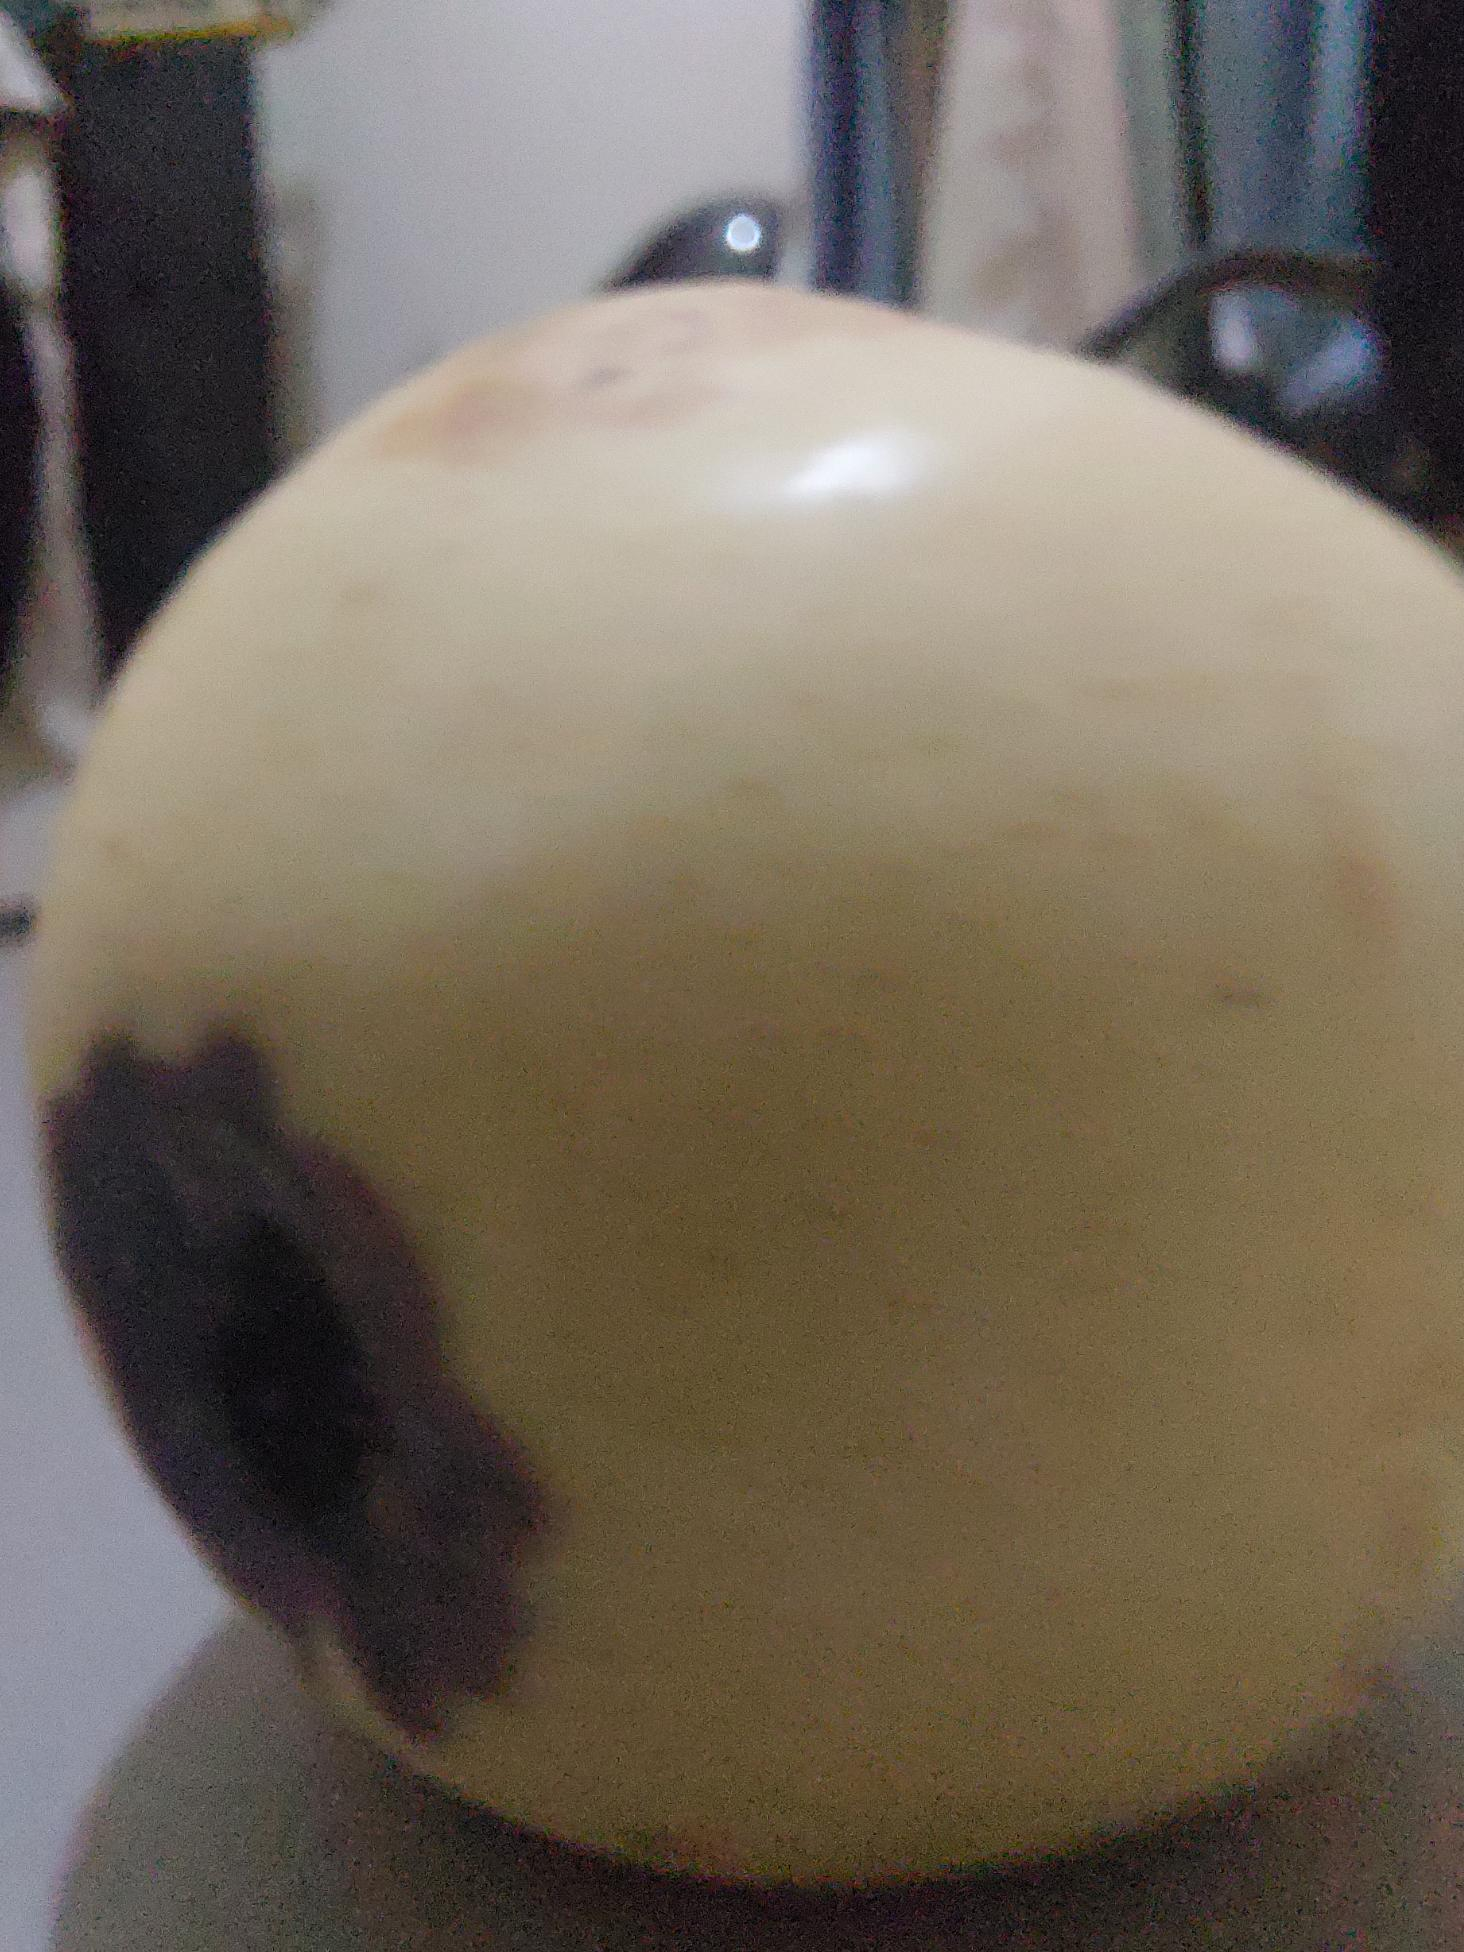Bad Pear: (20, 281, 1464, 1921)
